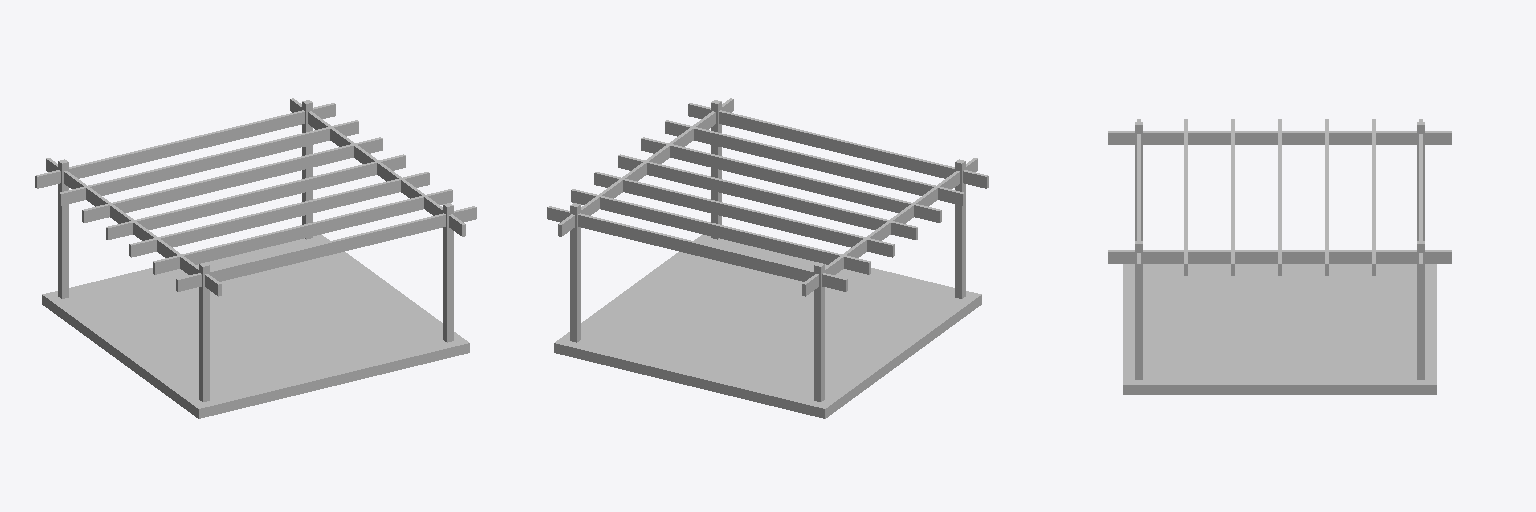
Rendered from Cabana 1.obj.
3 renders of one model, left to right at view 1: azimuth 30°, elevation 25°; view 2: azimuth 150°, elevation 25°; view 3: azimuth 270°, elevation 25°, orthographic.
Parts seen in each view (by area): view 1: Cabana; view 2: Cabana; view 3: Cabana.
Part boxes in pixels (x1,y1,x2,y2): Cabana: (35, 98, 476, 418); Cabana: (547, 98, 988, 418); Cabana: (1108, 119, 1451, 394).
Size of the model in its own units: 1100 by 513 by 1100.